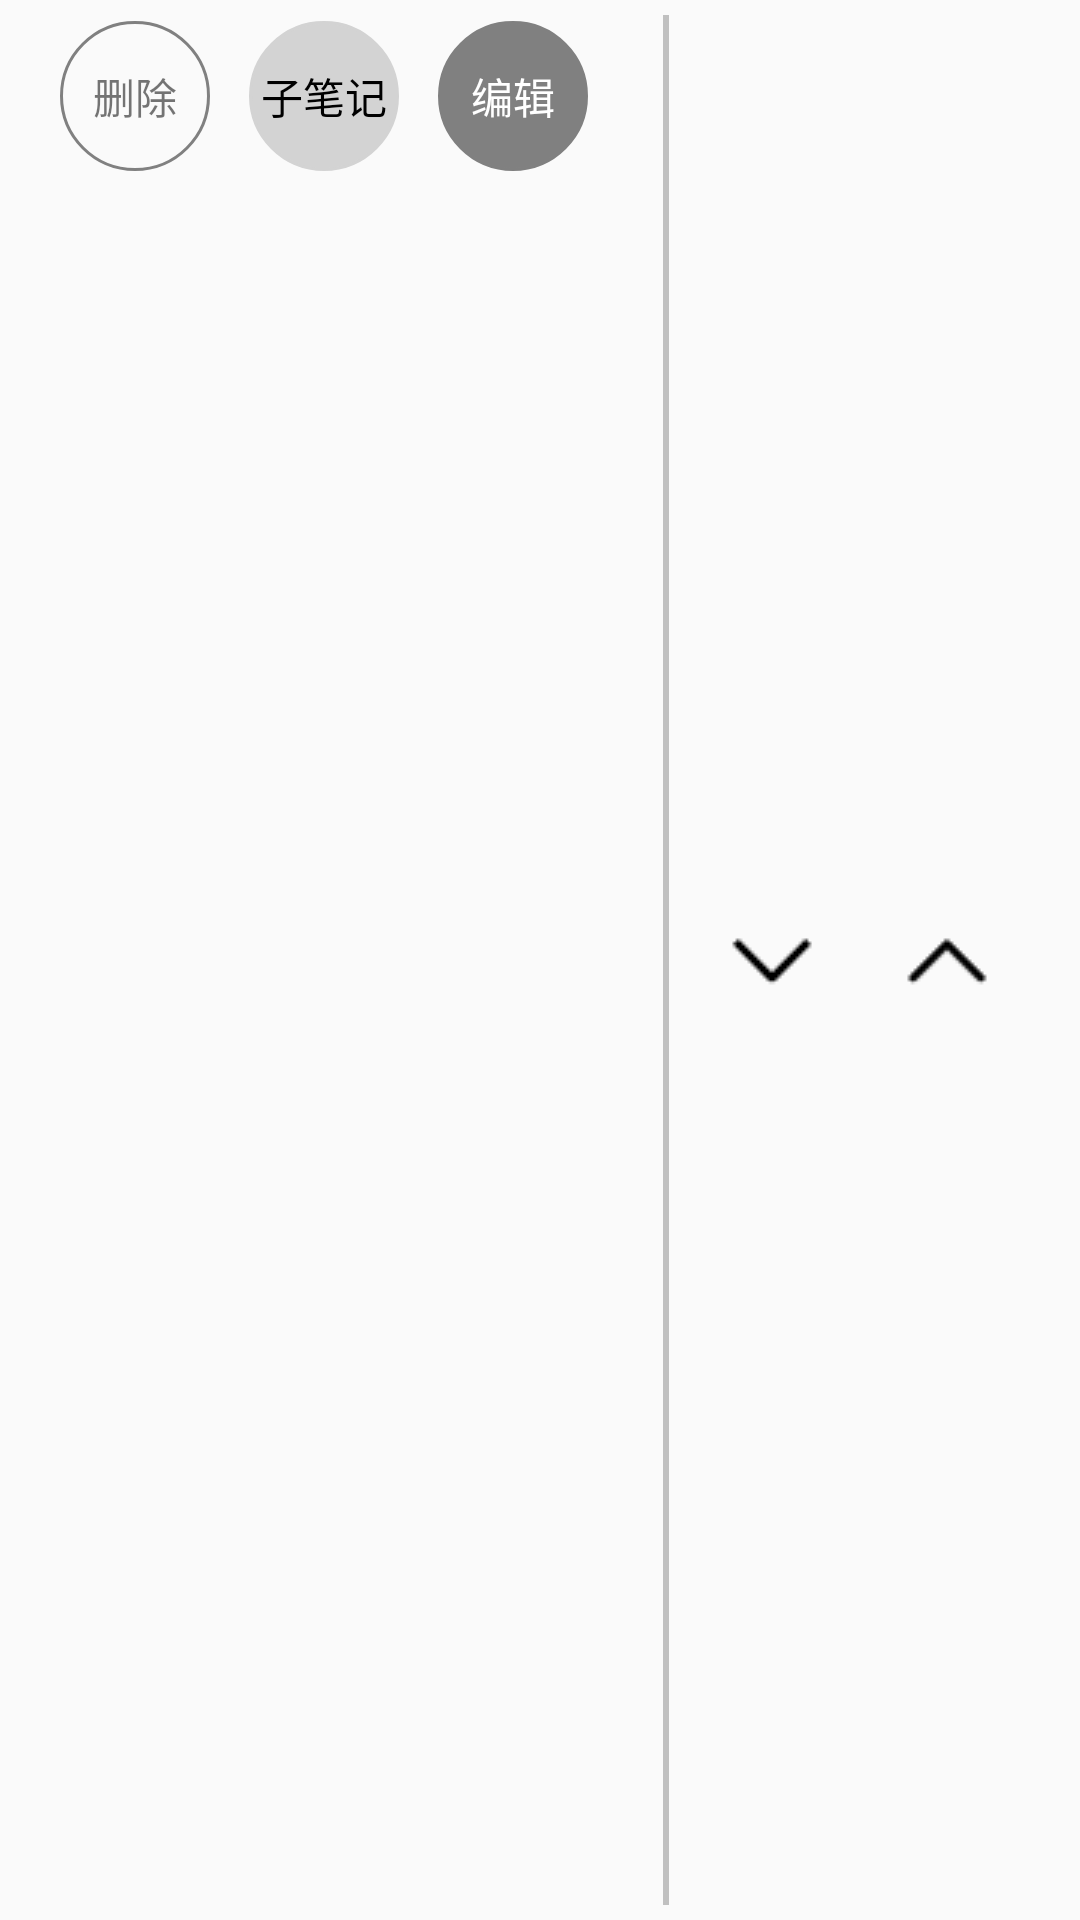

Icon bounding boxes for this 1080px×1920px phone screenshot, format (x1, y1, x2, y2):
arrow down: (732, 938, 812, 984)
arrow up: (907, 938, 987, 984)
